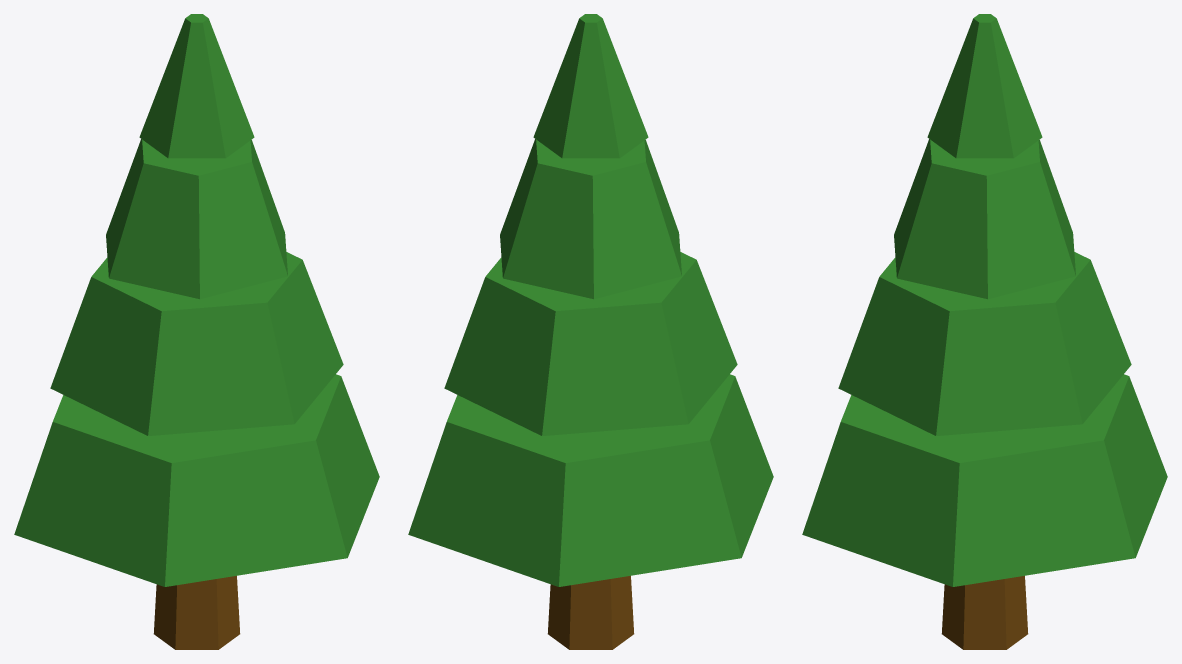
The model's file is tree.fbx.
The picture shows the model from 3 angles, left to right: view 1: azimuth 30°, elevation 25°; view 2: azimuth 150°, elevation 25°; view 3: azimuth 270°, elevation 25°; orthographic projection.
Parts seen in each view (by area): view 1: tree leafs, tree log; view 2: tree leafs, tree log; view 3: tree leafs, tree log.
Part boxes in pixels (left/top/right/bottom): tree leafs: left=14, top=14, right=379, bottom=586; tree log: left=153, top=576, right=240, bottom=649; tree leafs: left=408, top=14, right=773, bottom=586; tree log: left=547, top=576, right=634, bottom=649; tree leafs: left=802, top=14, right=1167, bottom=586; tree log: left=941, top=576, right=1028, bottom=649.
Size of the model in its own units: 100 by 177 by 95.09.
